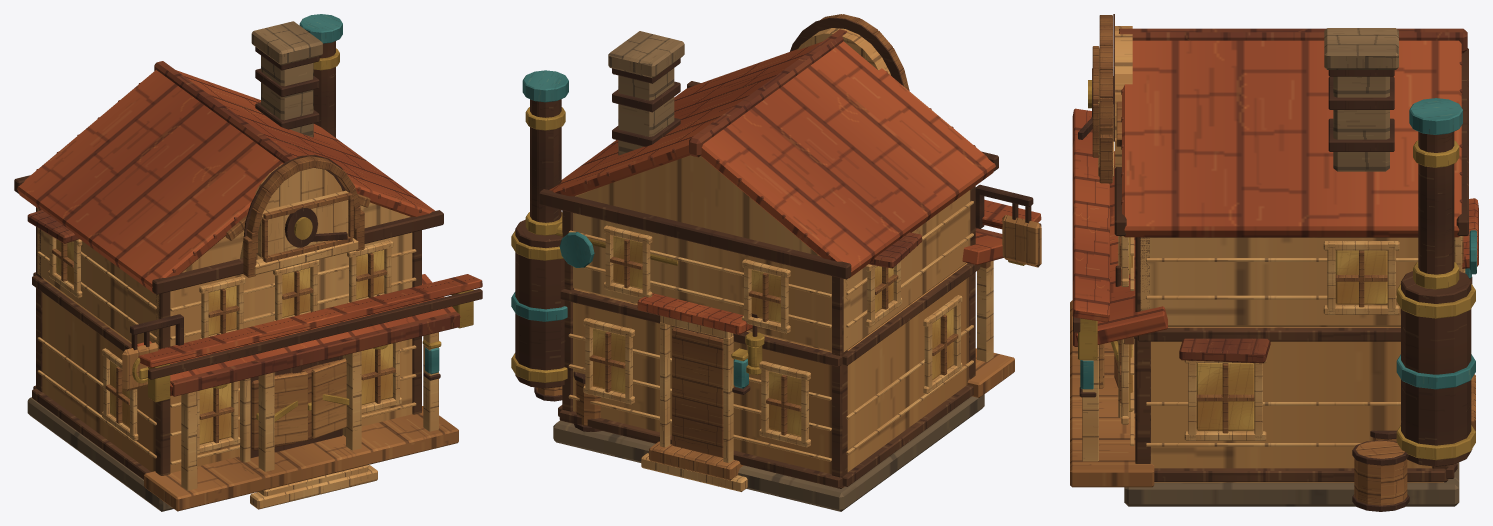
The model's file is tavern.e2.glb.
The picture shows the model from 3 angles, left to right: view 1: azimuth 30°, elevation 25°; view 2: azimuth 150°, elevation 25°; view 3: azimuth 270°, elevation 25°; orthographic projection. The views are drawn at different scales.
Visible parts, largest first — view 1: TownTavernE2; view 2: TownTavernE2; view 3: TownTavernE2.
Part boxes in pixels (x1,y1,x2,y2): TownTavernE2: (14, 14, 482, 511); TownTavernE2: (511, 14, 1041, 511); TownTavernE2: (1070, 14, 1478, 511).
Size of the model in its own units: 4.23 by 3.96 by 3.35.
Materials: 1 (1 with a texture image).
